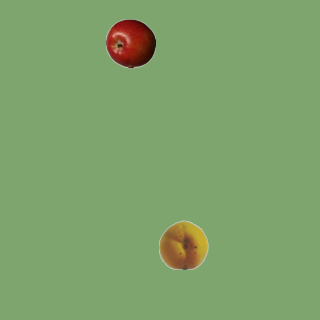Apple Braeburn: (105, 18, 155, 68)
Peach 2: (158, 219, 208, 269)
